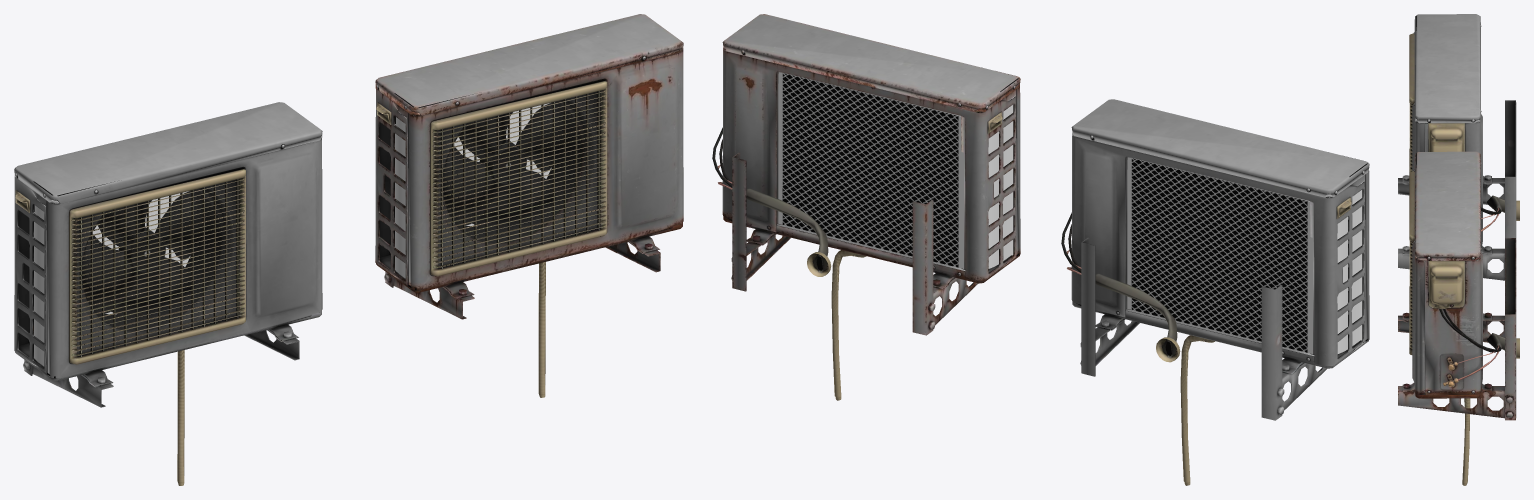
The model's file is exterior_aircon_unit.glb.
The picture shows the model from 3 angles, left to right: view 1: azimuth 30°, elevation 25°; view 2: azimuth 150°, elevation 25°; view 3: azimuth 270°, elevation 25°; orthographic projection. The views are drawn at different scales.
Parts seen in each view (by area): view 1: exterior_aircon_unit, exterior_aircon_unit_rusted; view 2: exterior_aircon_unit, exterior_aircon_unit_rusted; view 3: exterior_aircon_unit_rusted, exterior_aircon_unit.
Boxes of the visible parts, box(x1,y1,x2,y2) form: exterior_aircon_unit: box(14, 102, 322, 485); exterior_aircon_unit_rusted: box(375, 14, 683, 397); exterior_aircon_unit: box(1061, 99, 1369, 485); exterior_aircon_unit_rusted: box(712, 14, 1020, 400); exterior_aircon_unit_rusted: box(1398, 151, 1519, 485); exterior_aircon_unit: box(1398, 14, 1519, 280).
Bounding box in the file's own units: 1.8 × 0.9279 × 0.3742.
Materials: 4 (4 with a texture image).
